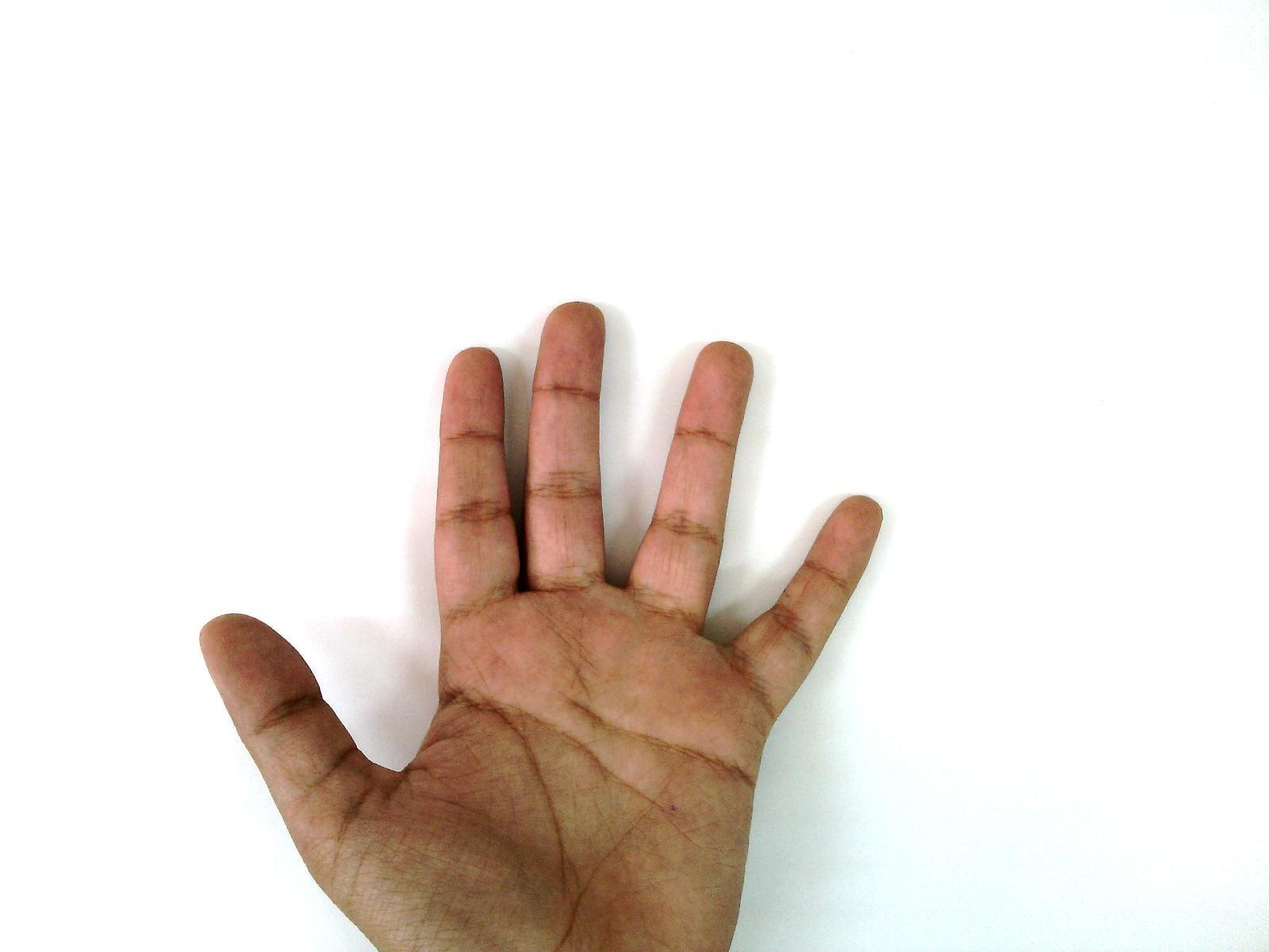open_palm: (198, 300, 887, 951)
